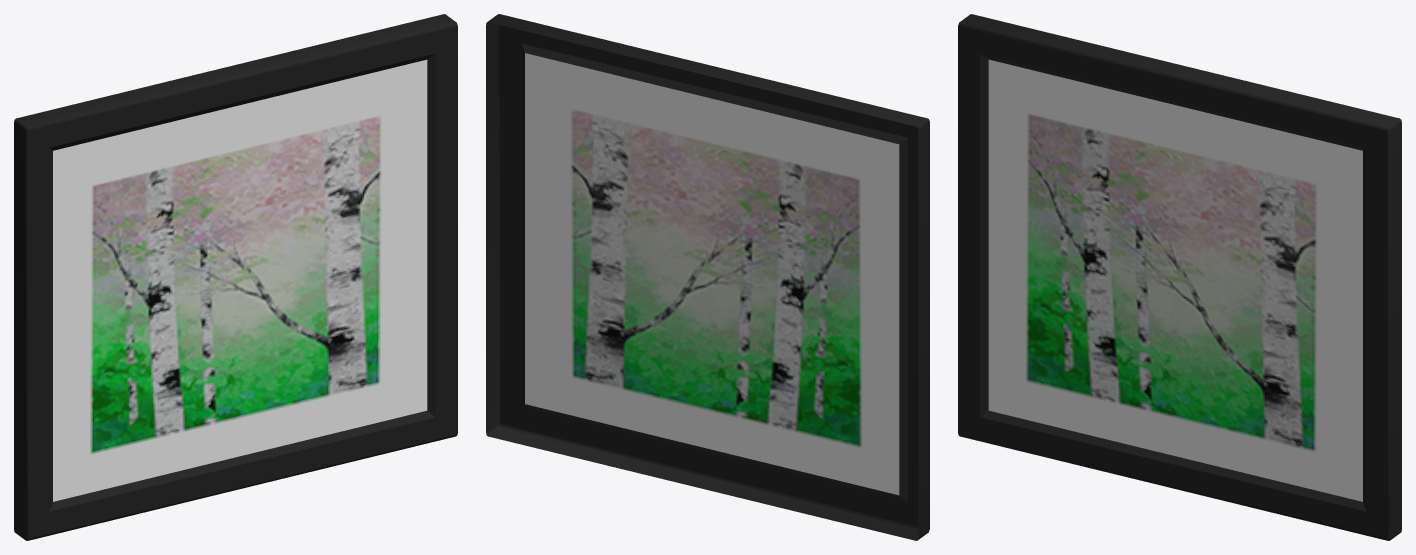
Rendered from paints5.FBX.
3 renders of one model, left to right at view 1: azimuth 30°, elevation 25°; view 2: azimuth 150°, elevation 25°; view 3: azimuth 330°, elevation 25°, orthographic.
Parts seen in each view (by area): view 1: paints5; view 2: paints5; view 3: paints5.
Boxes of the visible parts, box(x1,y1,x2,y2) form: paints5: box(14, 14, 457, 540); paints5: box(486, 14, 929, 540); paints5: box(958, 14, 1401, 540).
Bounding box in the file's own units: 20.56 × 1.03 × 18.84.
